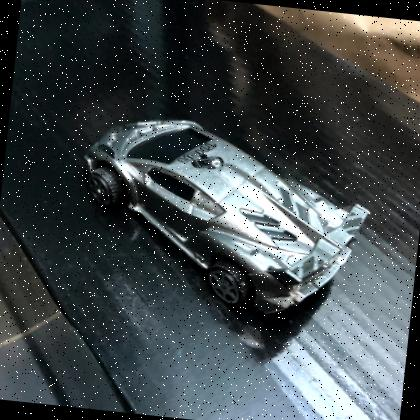Car: (83, 120, 368, 319)
